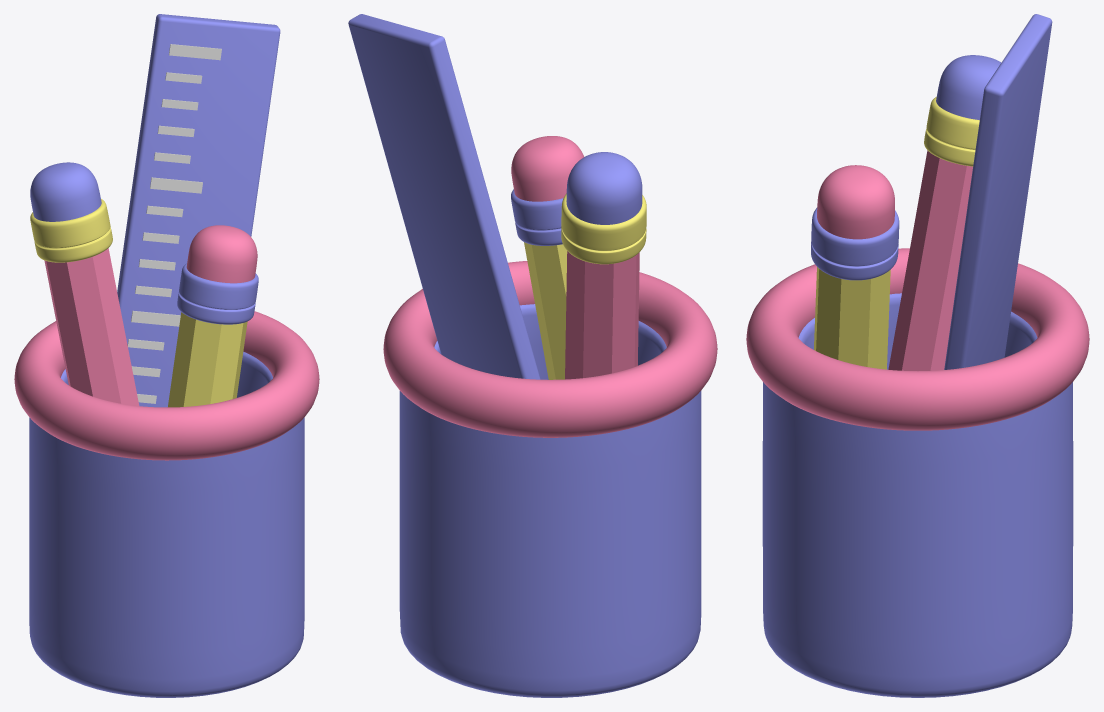
The picture shows the model from 3 angles, left to right: view 1: azimuth 30°, elevation 25°; view 2: azimuth 150°, elevation 25°; view 3: azimuth 270°, elevation 25°; orthographic projection. The views are drawn at different scales.
Visible parts, largest first — view 1: 0012_01_0, 0012_04_0, 0012_03_0, 0012_05-white_0; view 2: 0012_01_0, 0012_04_0, 0012_03_0; view 3: 0012_01_0, 0012_04_0, 0012_03_0.
Boxes of the visible parts, box(x1,y1,x2,y2) form: 0012_01_0: box(29, 14, 304, 697); 0012_04_0: box(14, 225, 319, 460); 0012_03_0: box(30, 199, 247, 407); 0012_05-white_0: box(127, 44, 221, 403); 0012_01_0: box(348, 14, 701, 697); 0012_04_0: box(383, 136, 717, 437); 0012_03_0: box(524, 193, 646, 379); 0012_01_0: box(762, 14, 1073, 697); 0012_04_0: box(746, 150, 1089, 430); 0012_03_0: box(814, 97, 979, 369).
Bounding box in the file's own units: 1.27 × 2.52 × 1.2.
